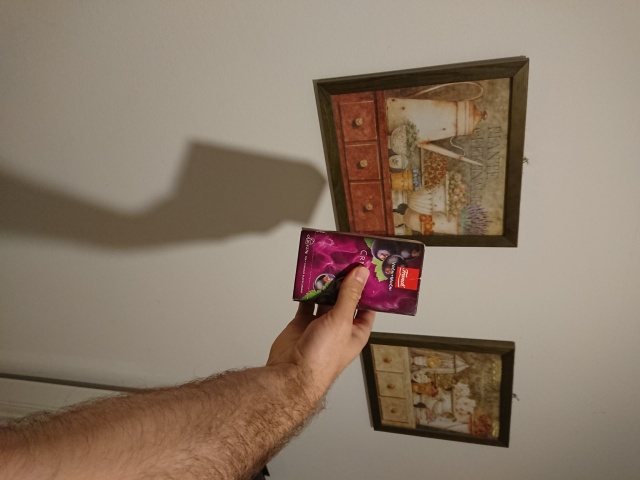Franck Black Currant Tea 60g: (290, 224, 428, 319)
